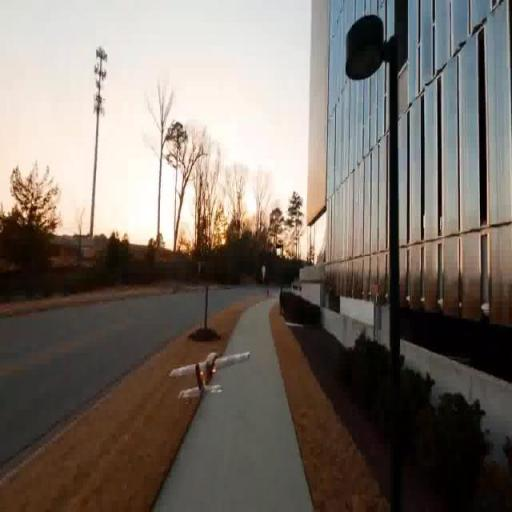uav: (167, 338, 252, 414)
